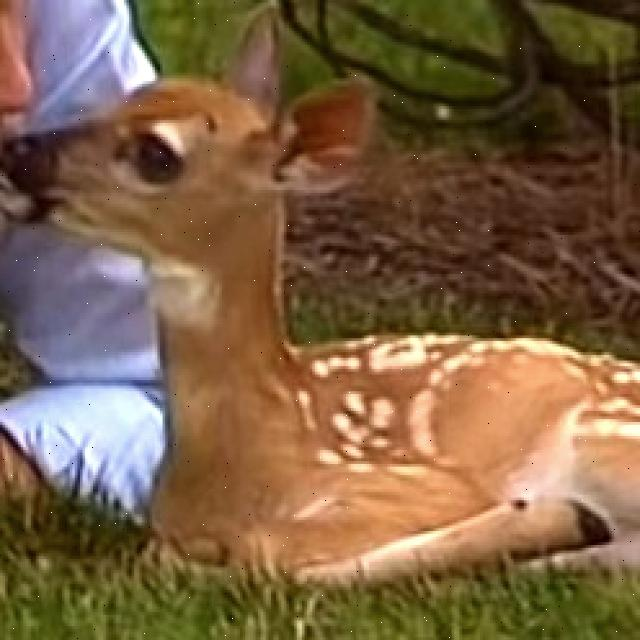deer: (3, 13, 439, 420)
